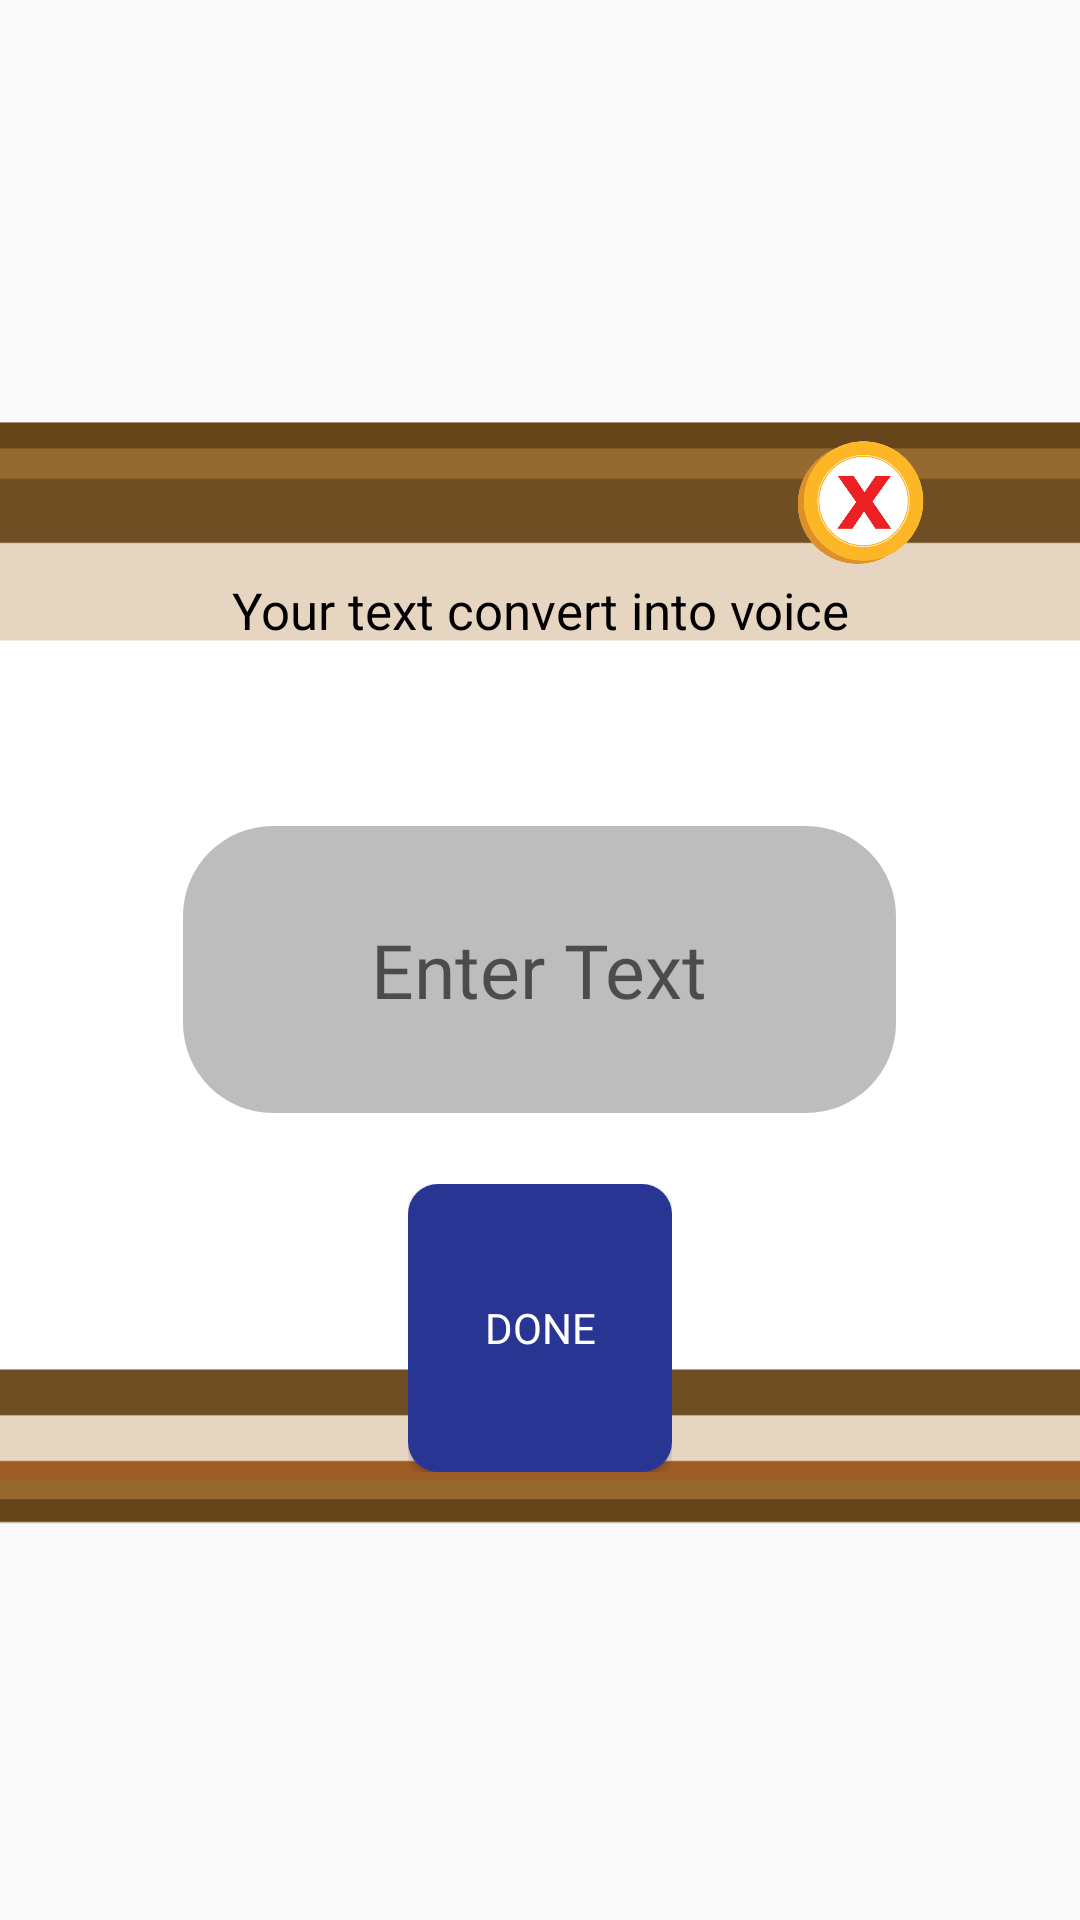

Icon click points for this 1080 × 1920 phone screenshot, format (x,y):
canclebtn: (861,501)
